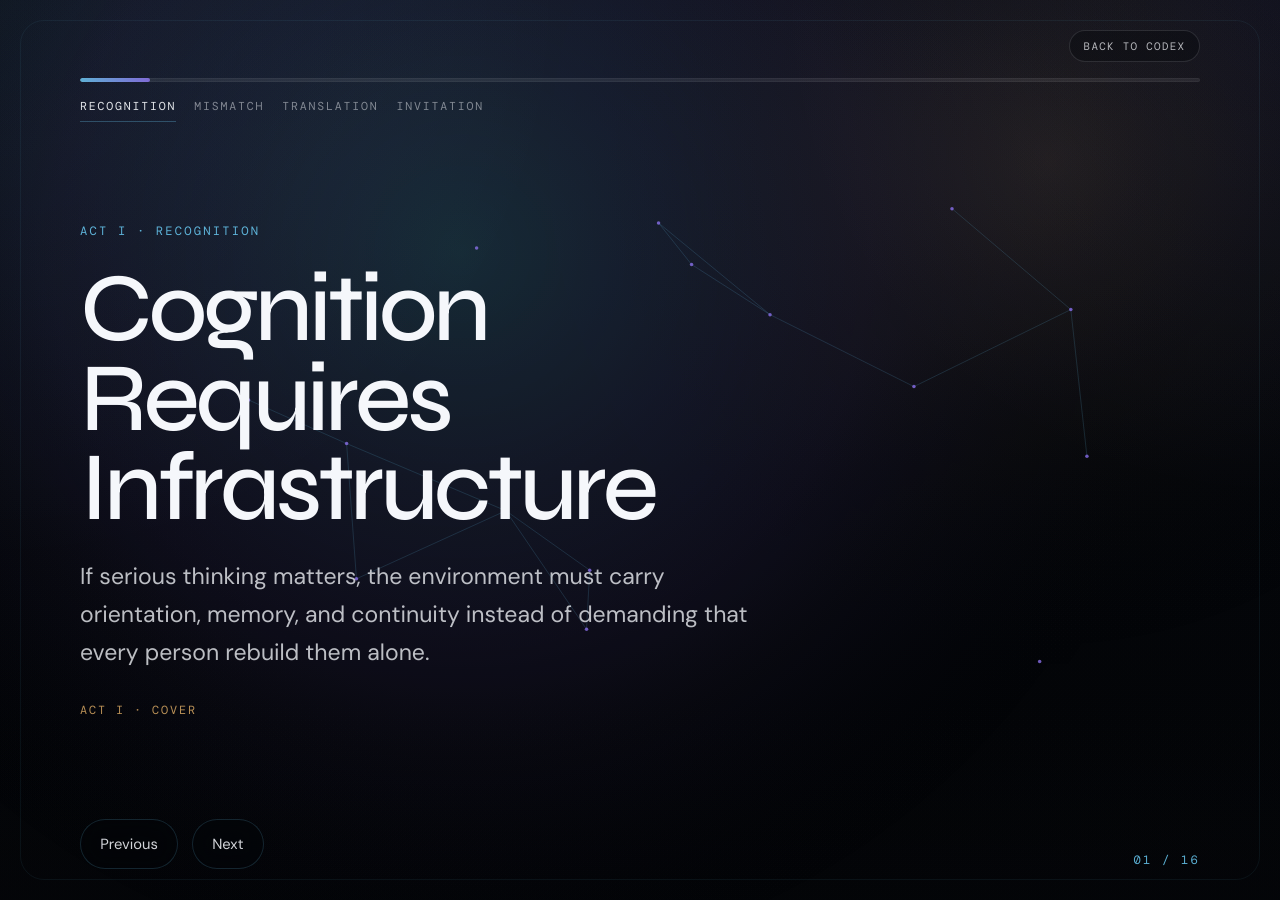
Scenario: CognitionDeck › advances to the next slide from the next button
The width and height of the screenshot is (1280, 900).
Click the button with aria-label "next slide" at (228, 844), box 192,819 -> 264,869
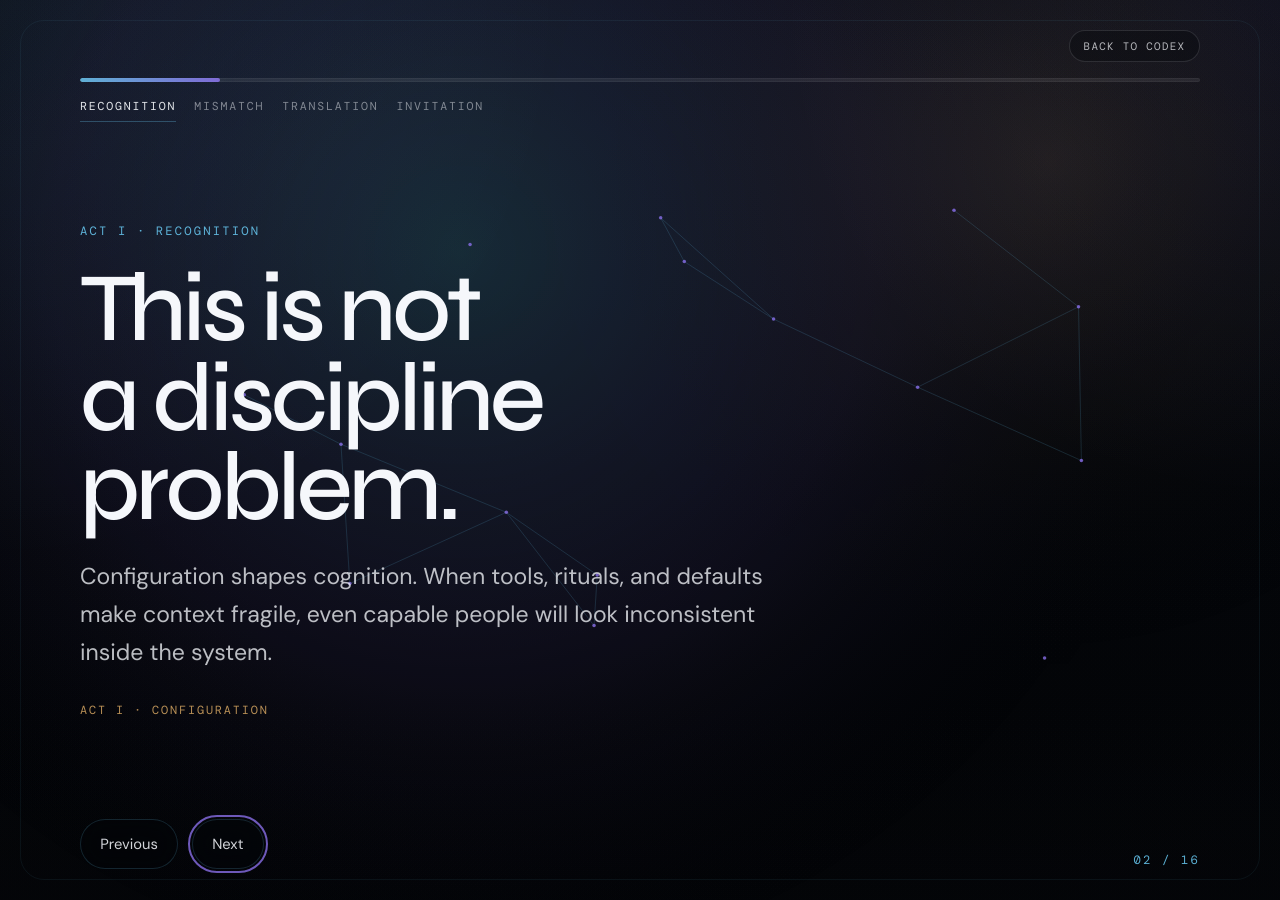
Check: the heading "This is not a discipline problem." is shown, box 80,250 -> 542,546
Check: the text "02 / 16" is shown, box 1134,851 -> 1200,869
